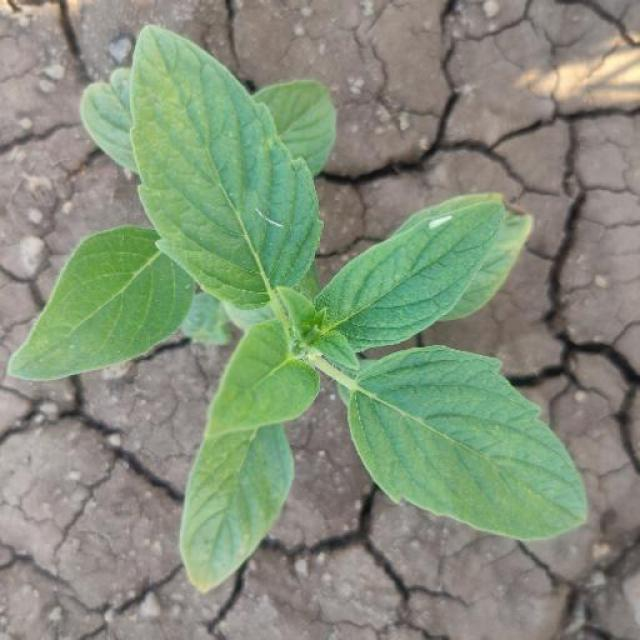crop: (16, 29, 592, 592)
